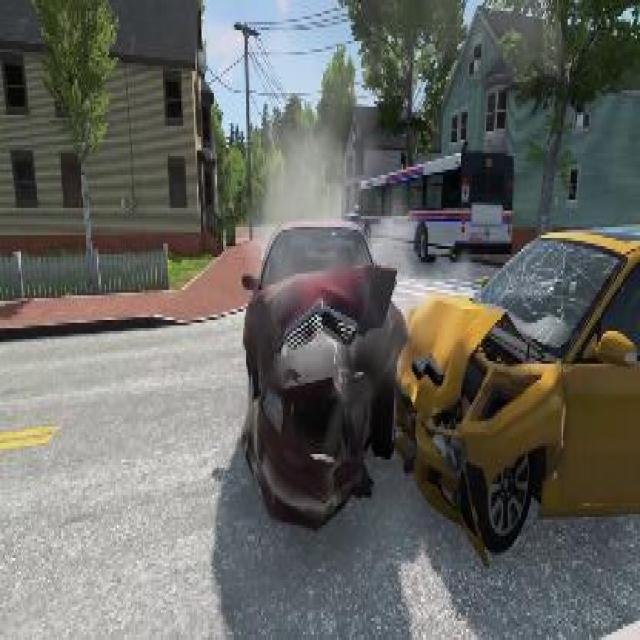accident: (238, 194, 640, 550)
